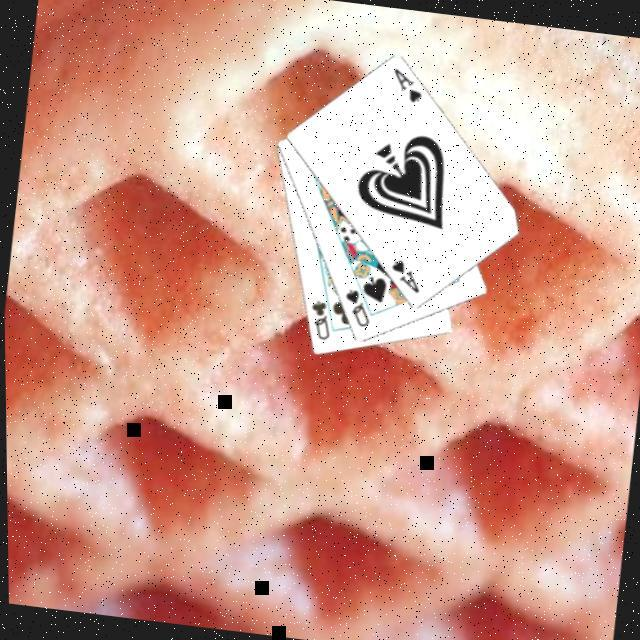AS: (382, 65, 426, 108), (382, 255, 422, 298)
QC: (300, 296, 334, 344)
QS: (334, 285, 372, 331)
